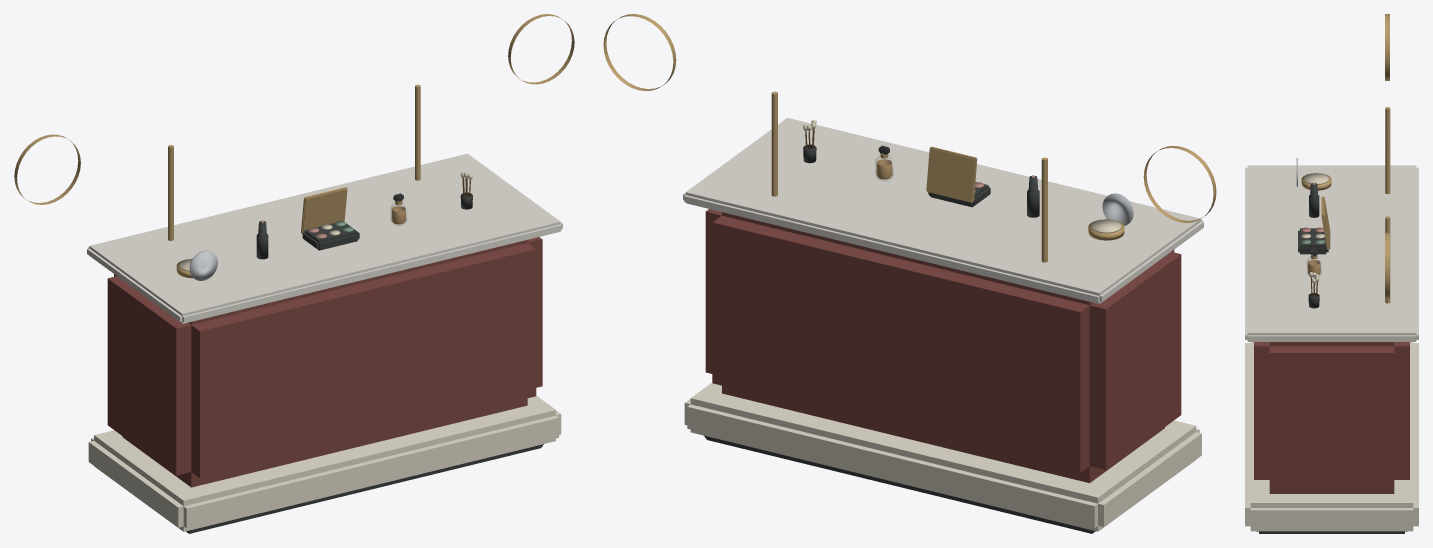
The model's file is collection_v29_beauty_1.glb.
3 views of the same model, side by side, from view 1: azimuth 30°, elevation 25°; view 2: azimuth 150°, elevation 25°; view 3: azimuth 270°, elevation 25° (orthographic). The views are drawn at different scales.
Visible parts, largest first — view 1: collection_v29_beauty_1_V29_oxblood_lacquer, collection_v29_beauty_1_Honed_solid_surface, collection_v29_beauty_1_V29_ivory_lacquer, collection_v29_beauty_1_Satin_champagne, collection_v29_beauty_1_V23_satin_brass.006, collection_v29_beauty_1_Anodised_graphite, collection_v29_beauty_1_V23_ceramic_graphite.004, collection_v29_beauty_1_Brushed_stainless.002; view 2: collection_v29_beauty_1_V29_oxblood_lacquer, collection_v29_beauty_1_Honed_solid_surface, collection_v29_beauty_1_V29_ivory_lacquer, collection_v29_beauty_1_Satin_champagne, collection_v29_beauty_1_V23_satin_brass.006, collection_v29_beauty_1_Anodised_graphite, collection_v29_beauty_1_Brushed_stainless.002; view 3: collection_v29_beauty_1_Honed_solid_surface, collection_v29_beauty_1_V29_oxblood_lacquer, collection_v29_beauty_1_V29_ivory_lacquer, collection_v29_beauty_1_Satin_champagne, collection_v29_beauty_1_V23_ceramic_graphite.004, collection_v29_beauty_1_Anodised_graphite, collection_v29_beauty_1_V23_ceramic_graphite.003, collection_v29_beauty_1_V23_satin_brass.006, collection_v29_beauty_1_Shop_display_glass.002, collection_v29_beauty_1_V23_natural_canvas.007.
Part boxes in pixels (box(x1,y1,x2,y2)): collection_v29_beauty_1_V29_oxblood_lacquer: box(107, 237, 542, 487); collection_v29_beauty_1_Honed_solid_surface: box(87, 153, 562, 323); collection_v29_beauty_1_V29_ivory_lacquer: box(88, 395, 561, 531); collection_v29_beauty_1_Satin_champagne: box(14, 14, 574, 240); collection_v29_beauty_1_V23_satin_brass.006: box(301, 187, 347, 233); collection_v29_beauty_1_Anodised_graphite: box(186, 444, 543, 533); collection_v29_beauty_1_V23_ceramic_graphite.004: box(302, 221, 359, 250); collection_v29_beauty_1_Brushed_stainless.002: box(189, 250, 217, 280); collection_v29_beauty_1_V29_oxblood_lacquer: box(705, 209, 1181, 483); collection_v29_beauty_1_Honed_solid_surface: box(683, 117, 1203, 303); collection_v29_beauty_1_V29_ivory_lacquer: box(684, 382, 1201, 531); collection_v29_beauty_1_Satin_champagne: box(603, 14, 1216, 262); collection_v29_beauty_1_V23_satin_brass.006: box(926, 146, 977, 202); collection_v29_beauty_1_Anodised_graphite: box(704, 435, 1095, 533); collection_v29_beauty_1_Brushed_stainless.002: box(1102, 193, 1133, 225); collection_v29_beauty_1_Honed_solid_surface: box(1245, 165, 1418, 341); collection_v29_beauty_1_V29_oxblood_lacquer: box(1254, 342, 1409, 493); collection_v29_beauty_1_V29_ivory_lacquer: box(1245, 342, 1418, 531); collection_v29_beauty_1_Satin_champagne: box(1385, 14, 1390, 303); collection_v29_beauty_1_V23_ceramic_graphite.004: box(1298, 228, 1328, 254); collection_v29_beauty_1_Anodised_graphite: box(1256, 531, 1407, 533); collection_v29_beauty_1_V23_ceramic_graphite.003: box(1309, 183, 1319, 217); collection_v29_beauty_1_V23_satin_brass.006: box(1321, 196, 1330, 249); collection_v29_beauty_1_Shop_display_glass.002: box(1306, 256, 1321, 277); collection_v29_beauty_1_V23_natural_canvas.007: box(1304, 173, 1328, 184).
Size of the model in its own units: 2.62 by 1.63 by 0.78.
22 materials, 1 textured.
